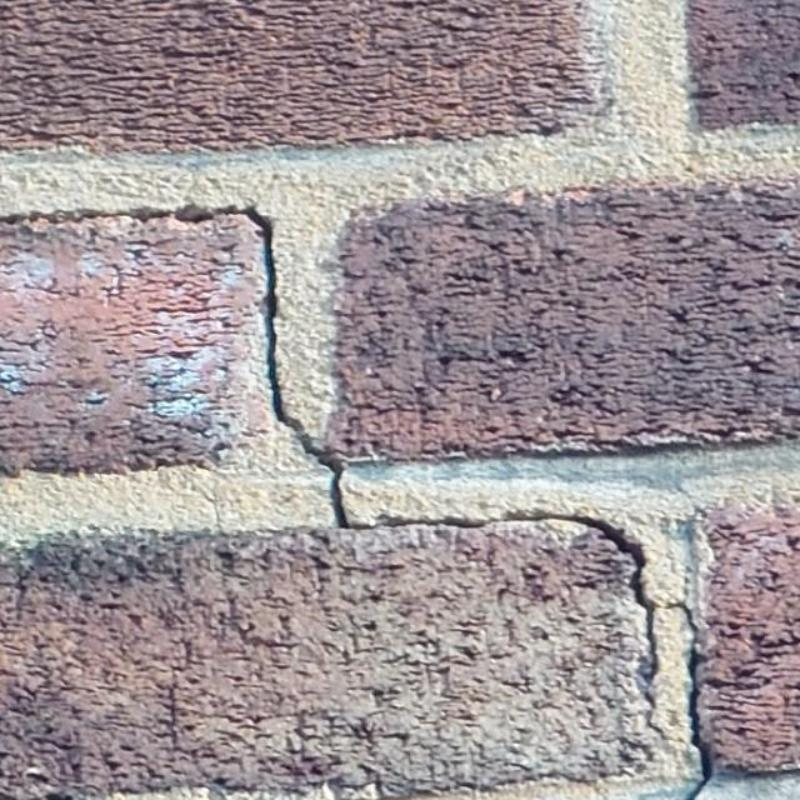pothole: (0, 206, 488, 529), (503, 509, 662, 737), (662, 603, 712, 799)
